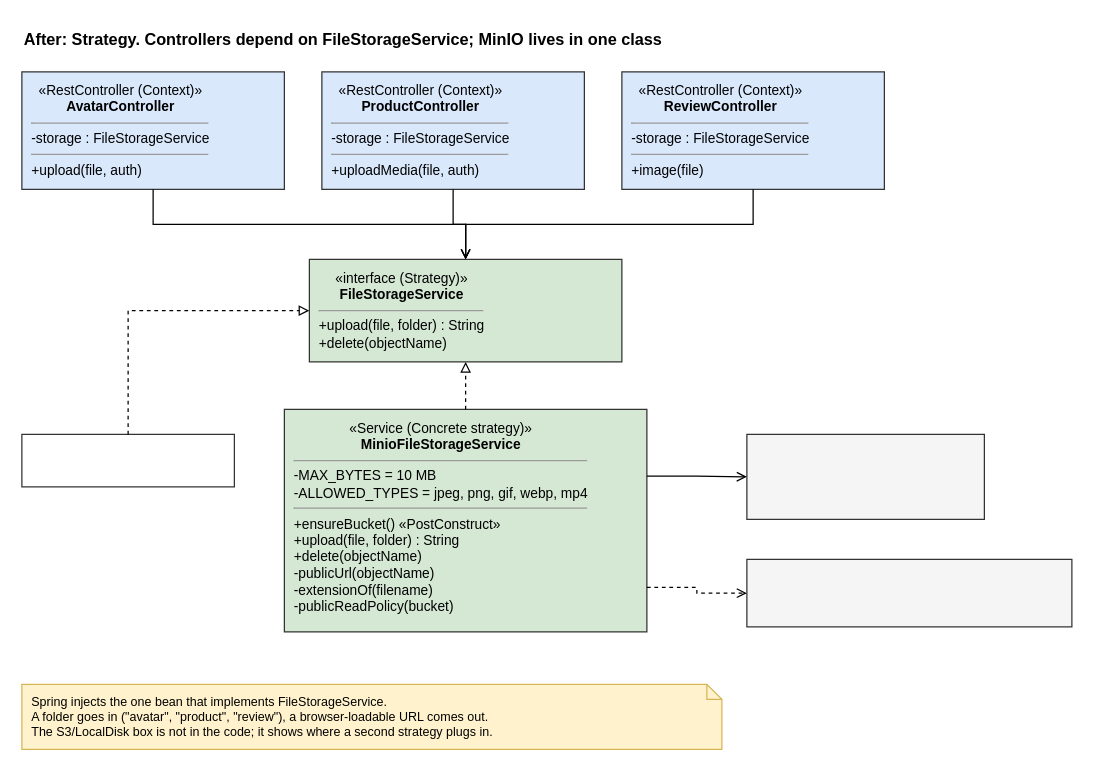
Image size: 1094x771. Some labels were removed from this diagram. Here are the shapes that lost their labels. From the top down, the centre of each, then its label:
[127,460]: «possible next strategy» S3 / LocalDisk storage
[865,476]: «MinIO SDK» MinioClient +putObject(PutObjectArgs)
[909,592]: MinioProperties endpoint, publicEndpoint, bucketName
